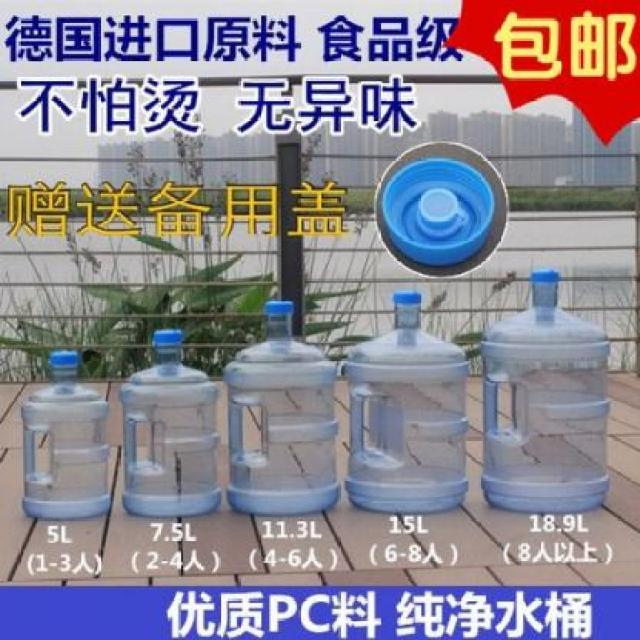coolerbottle: (476, 265, 620, 516), (344, 290, 470, 516), (226, 303, 338, 519), (119, 328, 223, 522), (20, 348, 117, 525)
